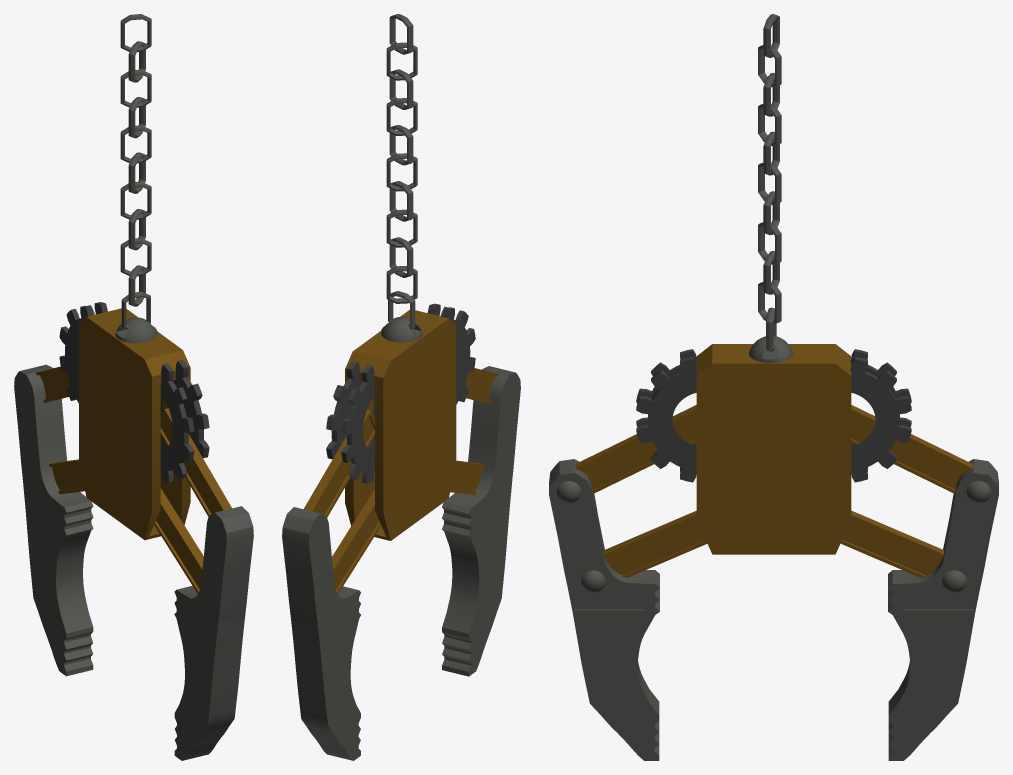
The model's file is P_Pince.fbx.
3 renders of one model, left to right at view 1: azimuth 30°, elevation 25°; view 2: azimuth 150°, elevation 25°; view 3: azimuth 270°, elevation 25°, orthographic. The views are drawn at different scales.
Visible parts, largest first — view 1: P_Pince; view 2: P_Pince; view 3: P_Pince.
Boxes of the visible parts, left/top/right/bottom form: P_Pince: left=14, top=14, right=253, bottom=760; P_Pince: left=282, top=14, right=520, bottom=760; P_Pince: left=549, top=14, right=998, bottom=760.
Size of the model in its own units: 187 by 3243 by 1791.
